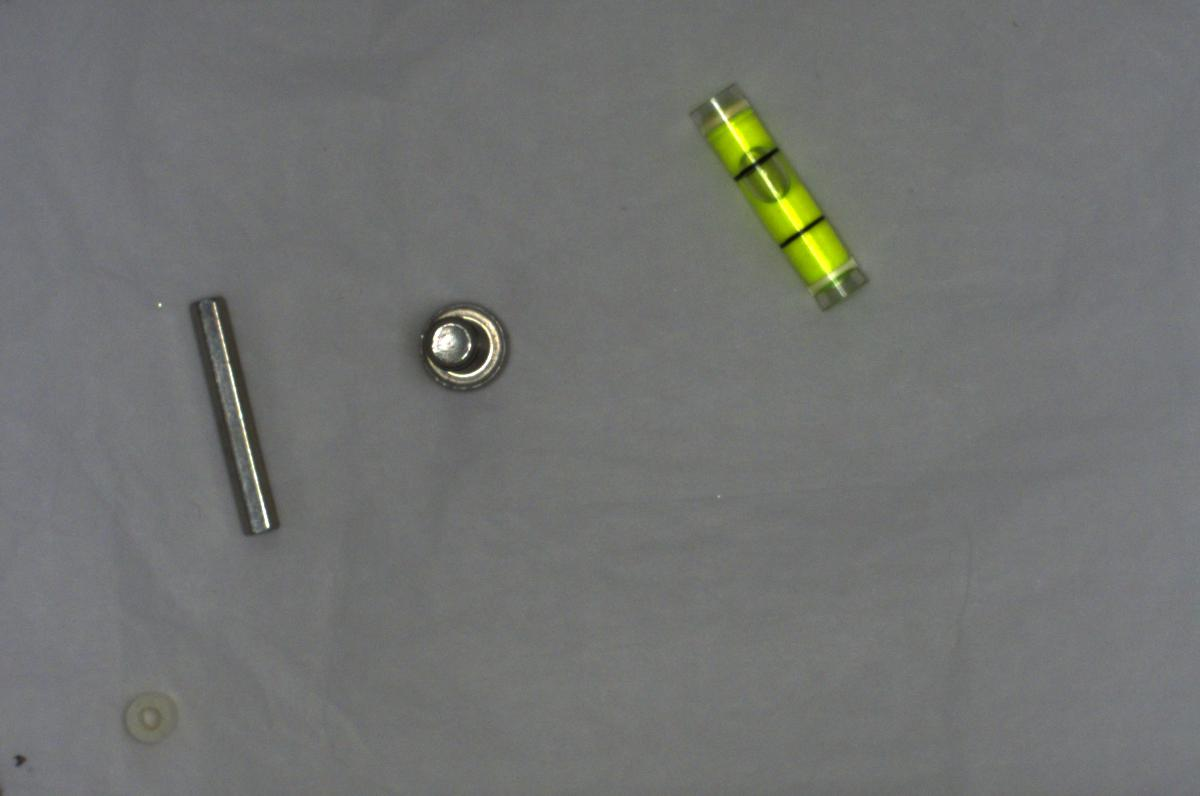Double hexagonal column: (182, 280, 293, 543)
Hexagon screw: (406, 300, 517, 394)
Horizontal bubble: (686, 75, 870, 312)
Plastic cushion pillar: (118, 686, 177, 747)
